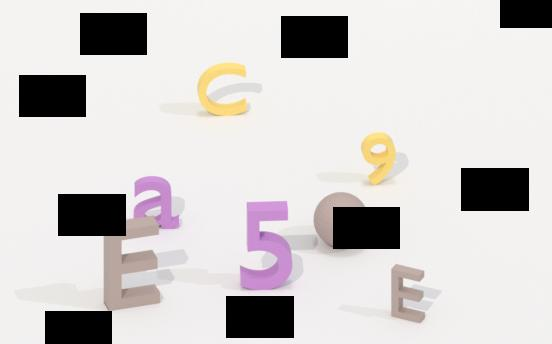5: (236, 200, 296, 293)
9: (358, 131, 399, 186)
E-hoa: (101, 220, 169, 308), (385, 263, 431, 326)
a: (131, 175, 184, 232)
c: (194, 62, 254, 118)
cau: (310, 189, 373, 248)
